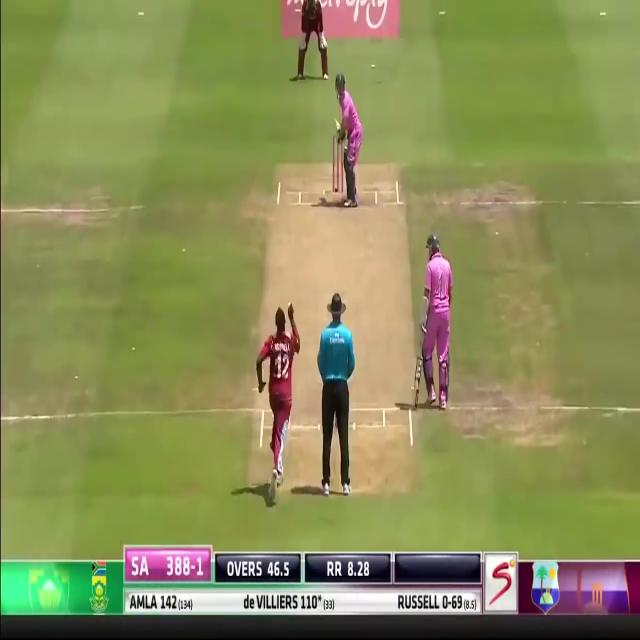Ball: (418, 233, 454, 409), (332, 70, 364, 207)
Fielder: (256, 302, 300, 487), (297, 1, 329, 79)
Umpire: (317, 293, 356, 502)
